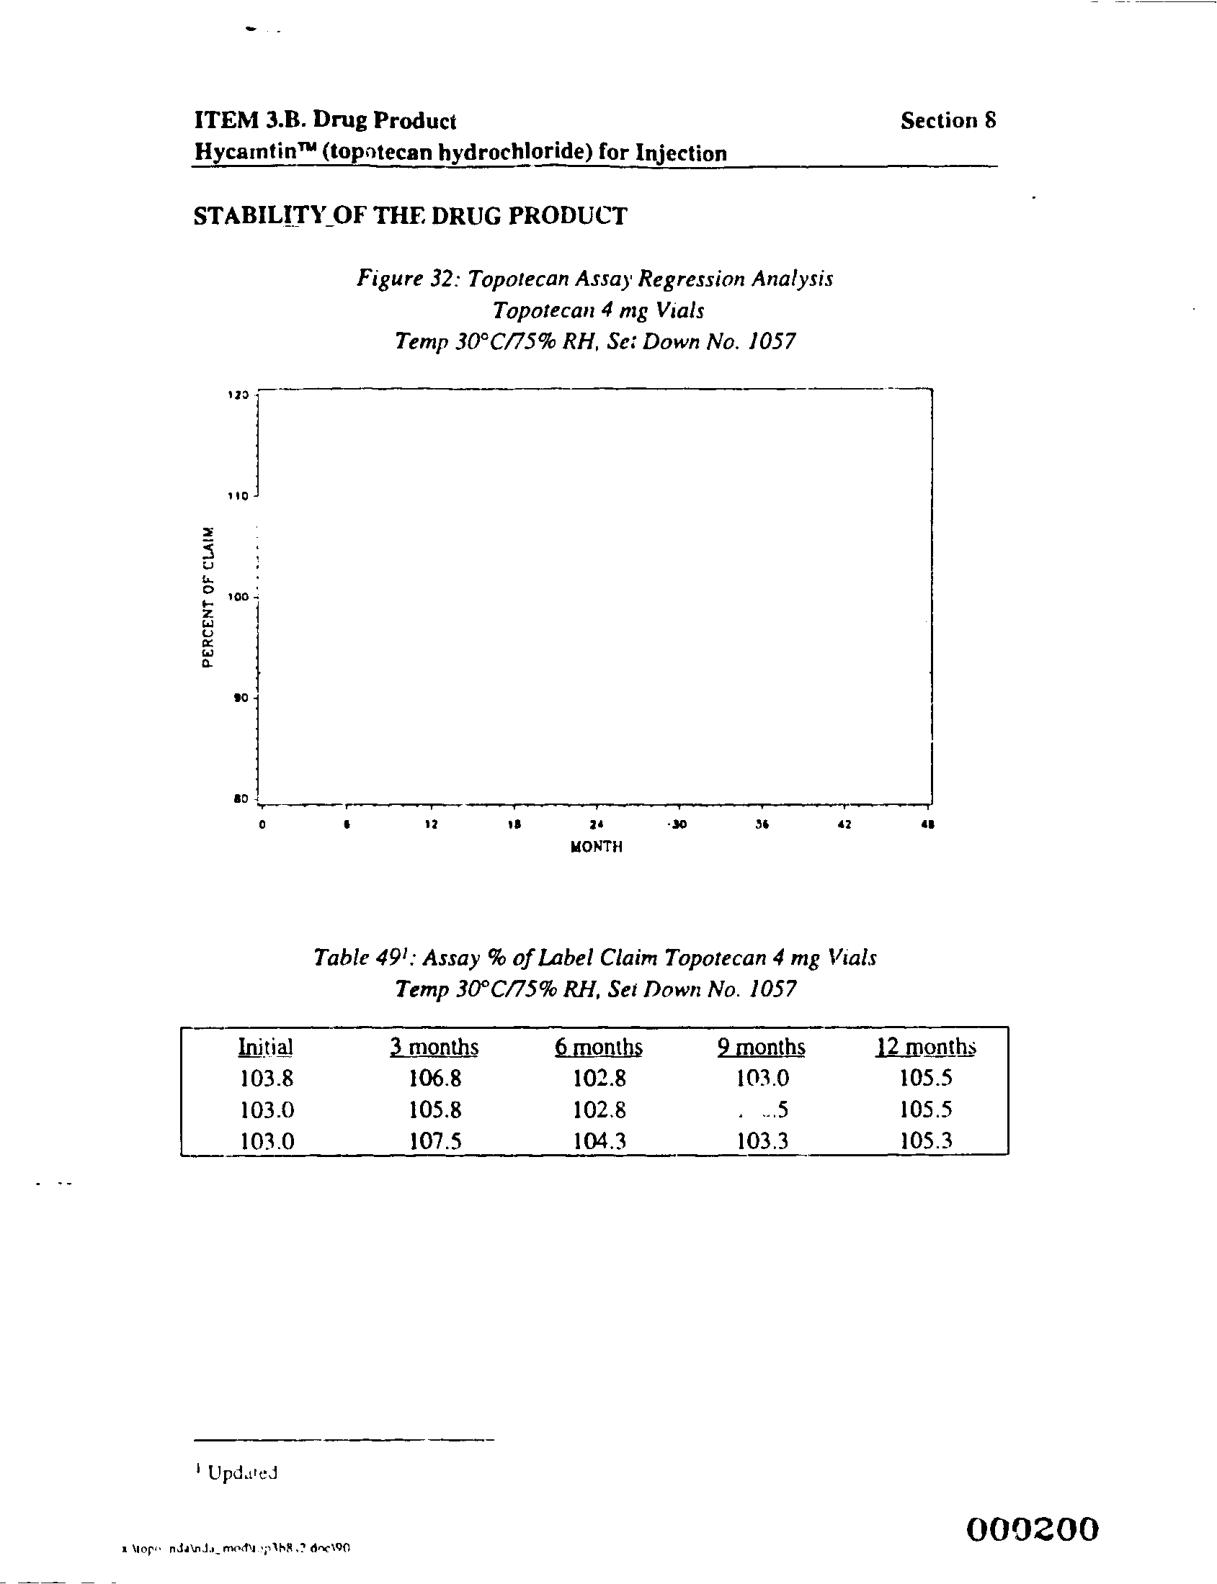partial_lined: (176, 1021, 1012, 1160)
